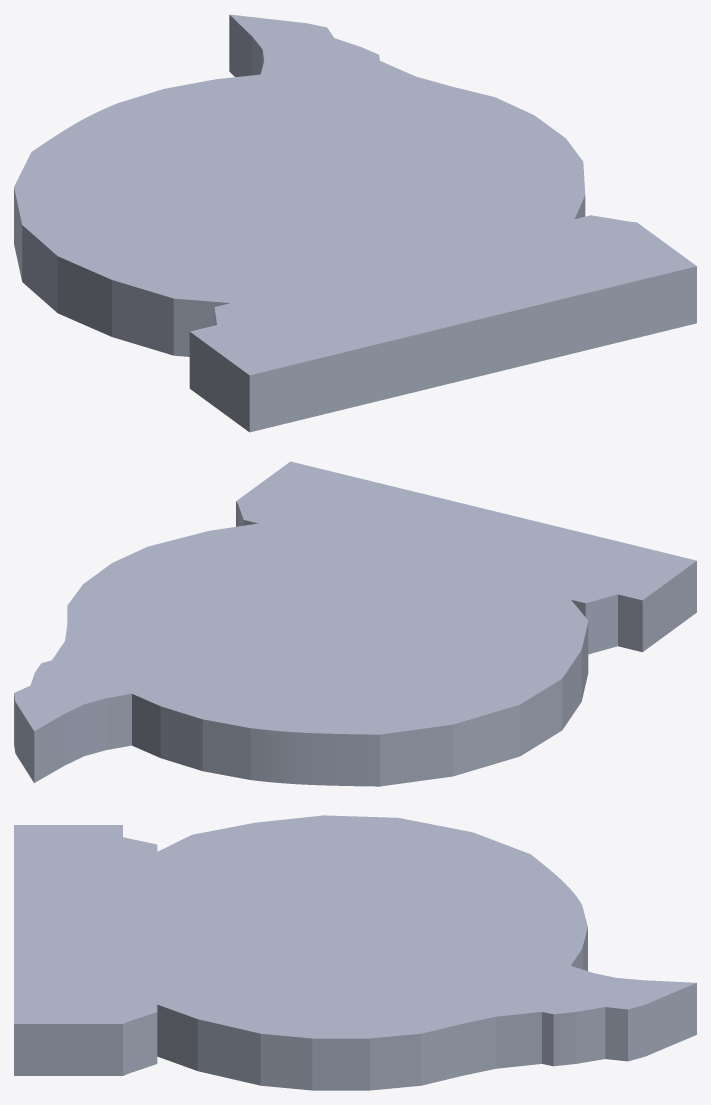
The model's file is mexico_mock.glb.
3 renders of one model, top to bottom at view 1: azimuth 30°, elevation 25°; view 2: azimuth 150°, elevation 25°; view 3: azimuth 270°, elevation 25°, orthographic. The views are drawn at different scales.
Visible parts, largest first — view 1: Mesh_Mesh_head_geo.001_lambert2SG.001; view 2: Mesh_Mesh_head_geo.001_lambert2SG.001; view 3: Mesh_Mesh_head_geo.001_lambert2SG.001.
Part boxes in pixels (x1,y1,x2,y2): Mesh_Mesh_head_geo.001_lambert2SG.001: (14,14,696,432); Mesh_Mesh_head_geo.001_lambert2SG.001: (14,461,696,786); Mesh_Mesh_head_geo.001_lambert2SG.001: (14,815,696,1090).
Size of the model in its own units: 0.092 by 0.01 by 0.119.
